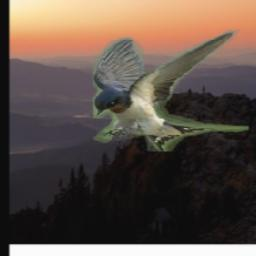Swallow: (94, 29, 250, 153)
